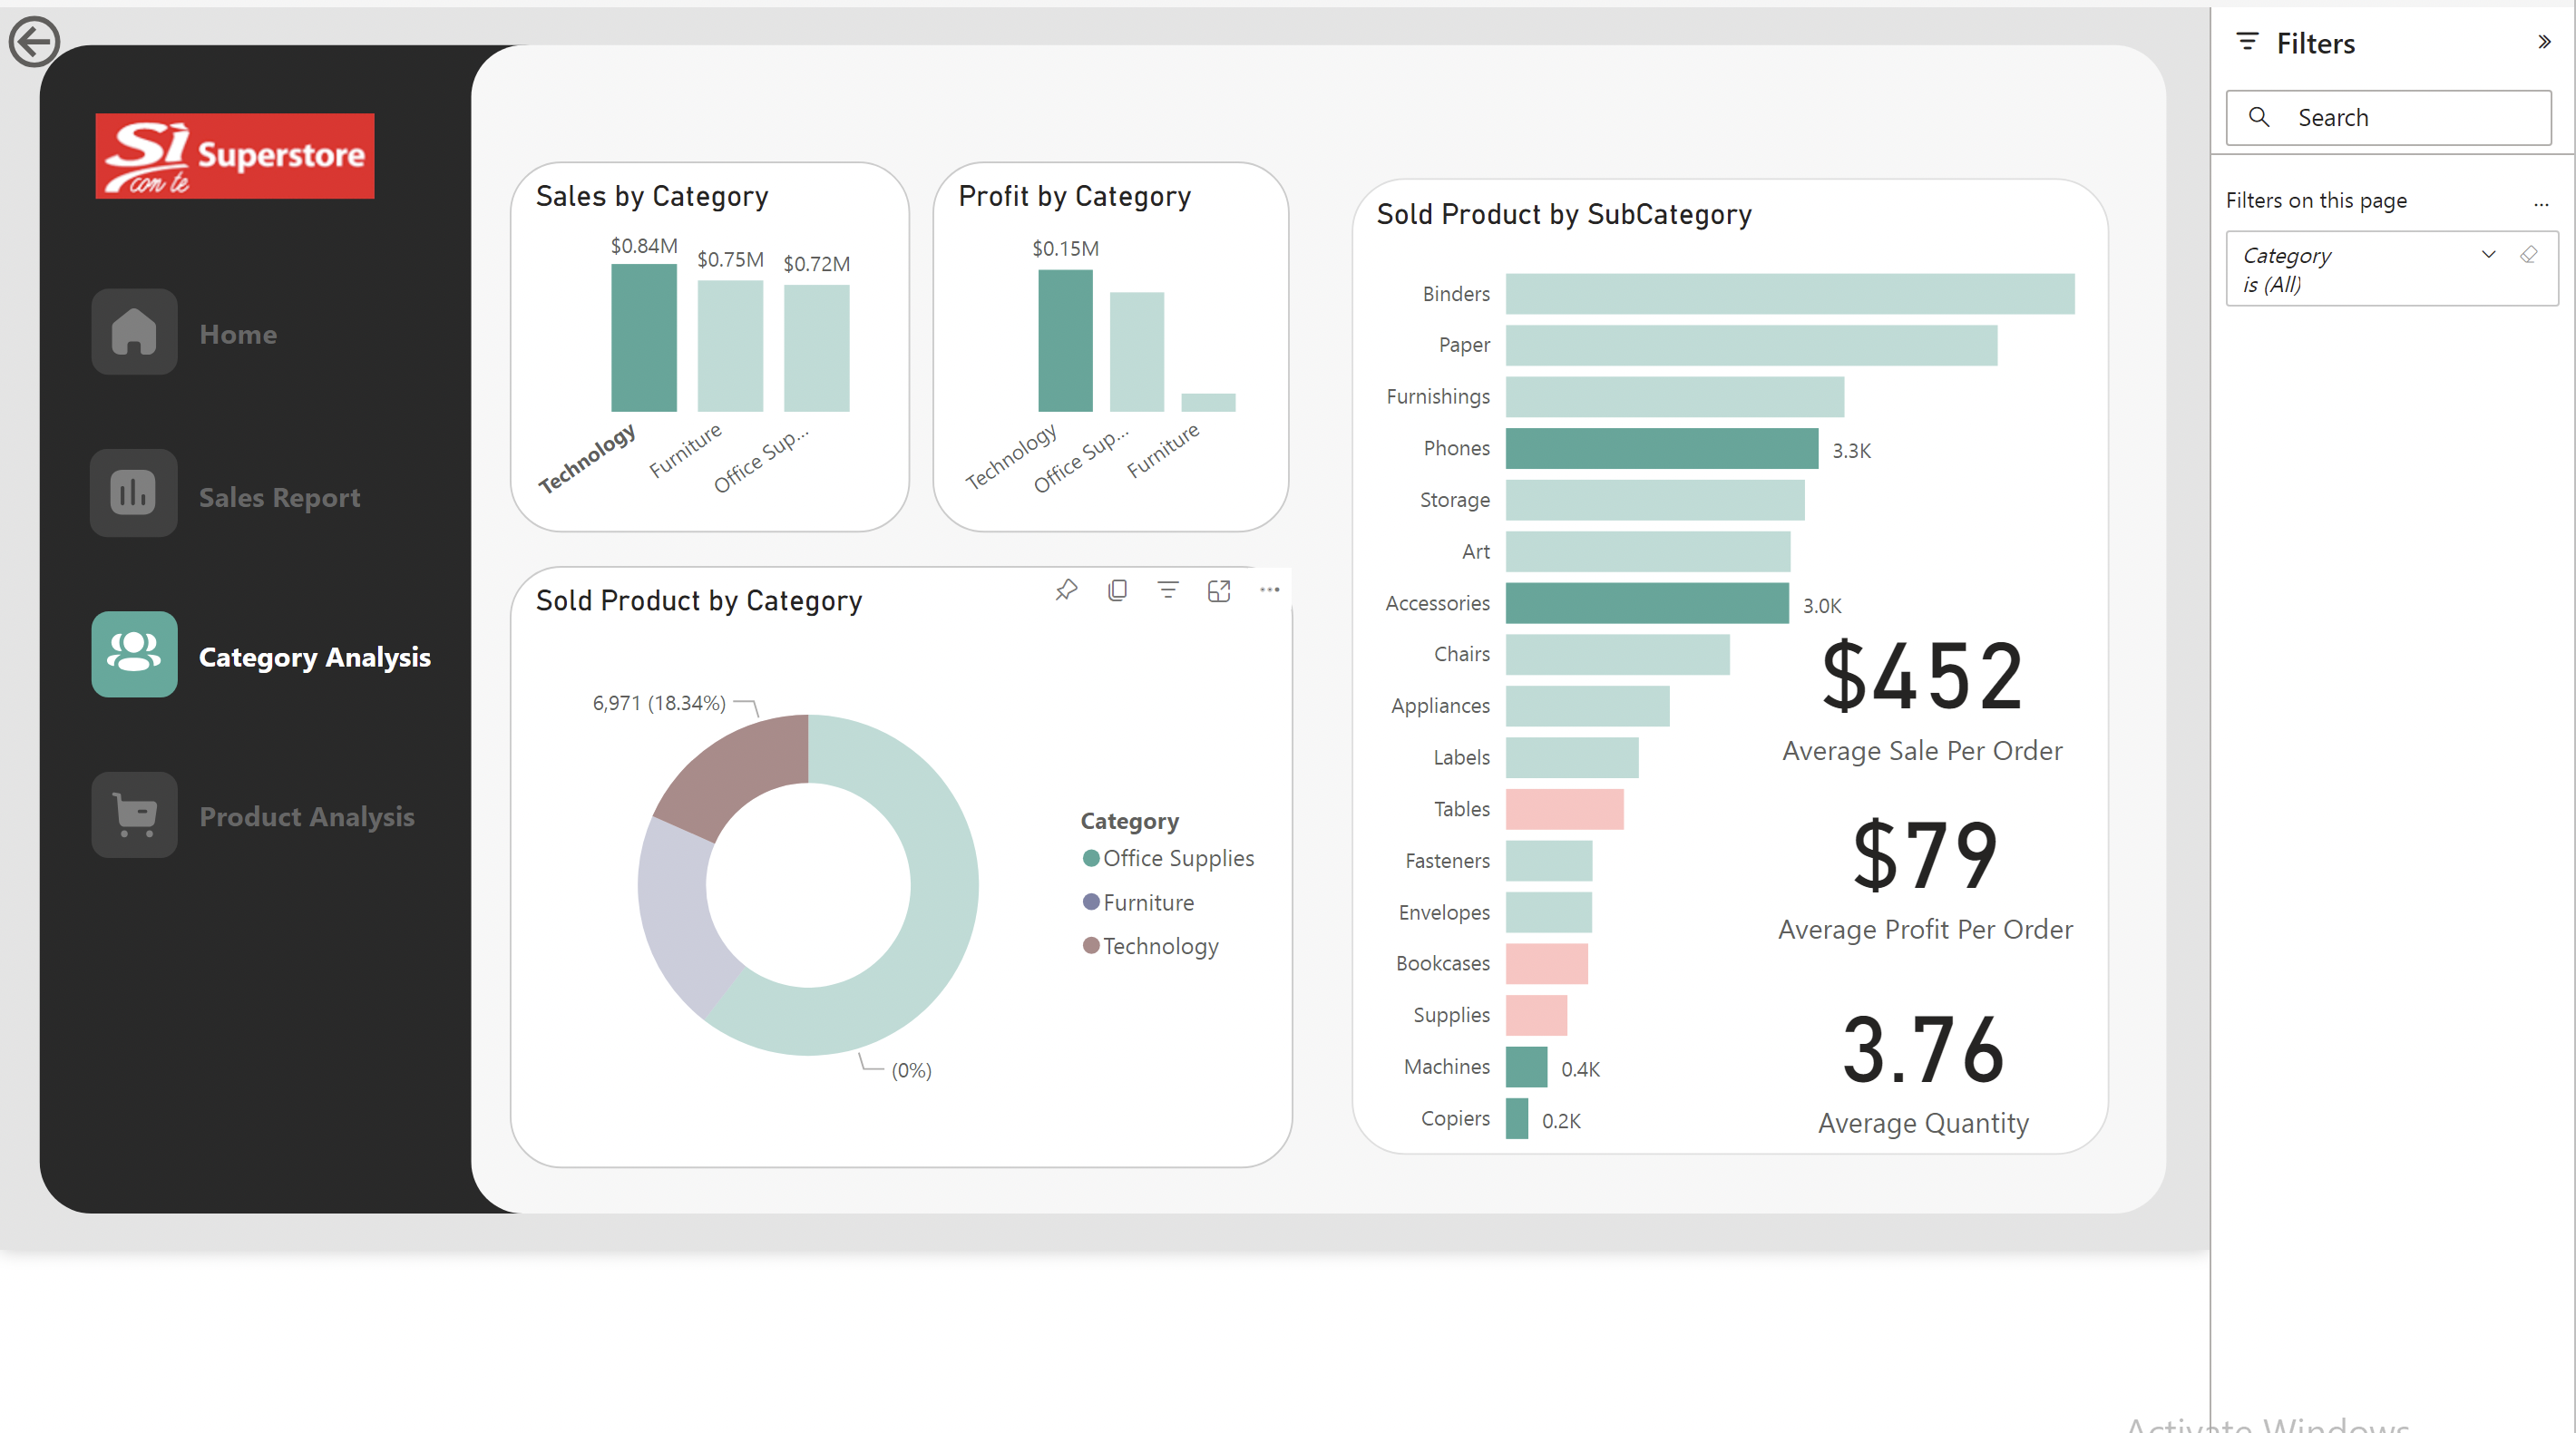

What the dashboard file says about the page in this screenshot:
{"tool":"powerbi","page":{"name":"Category Insights","canvas":[1280,720],"ordinal":5},"visuals":[{"type":"card","title":"Sold Products by Category","fields":{"Values":["Min(CategoryDim.Category)"]},"box":[50.3,0,258.3,167.8],"z":0},{"type":"hundredPercentStackedColumnChart","title":"Total Sales and Profit % by Category","fields":{"Category":["CategoryDim.Category"],"Y":["Sum(SalesFact.Sales)","Sum(SalesFact.Profit)"]},"box":[308.7,0,298.6,273.4],"z":1000},{"type":"lineClusteredColumnComboChart","title":"Sold Product by SubCategory","fields":{"Category":["CategoryDim.Sub-Category"],"Y":["Sum(SalesFact.Quantity)"]},"box":[0,274,588,446],"z":2000},{"type":"lineClusteredColumnComboChart","title":"Total Profit and Sales by Sub-Category","fields":{"Category":["CategoryDim.Sub-Category"],"Y2":["Sum(SalesFact.Sales)"],"Y":["Sum(SalesFact.Profit)"]},"box":[588,274,693,445],"z":3000},{"type":"card","fields":{"Values":["Sum(SalesFact.Sales)"]},"box":[597.9,0,231.4,112.2],"z":4000},{"type":"card","fields":{"Values":["Sum(SalesFact.Profit)"]},"box":[828,0,256,112],"z":5000},{"type":"card","fields":{"Values":["Sum(SalesFact.Quantity)"]},"box":[1084,0,196,112],"z":6000},{"type":"card","fields":{"Values":["Avg(SalesFact.Sales)"]},"box":[598,112,240,112],"z":7000},{"type":"card","fields":{"Values":["Avg(SalesFact.Profit)"]},"box":[838,112,256,112],"z":8000},{"type":"card","fields":{"Values":["Avg(SalesFact.Quantity)"]},"box":[1084,112,196,112],"z":9000},{"type":"actionButton","box":[0,0,100,40],"z":10000}]}

Visuals, with their boxes on the page's 1280x720 design canvas (x1, y1, x2, y2). These are canvas units, not pixel positions in the 2576x1433 screenshot, which may show the page scaled, cropped or inside an application window:
"Sold Products by Category" card: crop(50, 0, 309, 168)
"Total Sales and Profit % by Category" hundredPercentStackedColumnChart: crop(309, 0, 607, 273)
"Sold Product by SubCategory" lineClusteredColumnComboChart: crop(0, 274, 588, 720)
"Total Profit and Sales by Sub-Category" lineClusteredColumnComboChart: crop(588, 274, 1281, 719)
card - Sum(SalesFact.Sales): crop(598, 0, 829, 112)
card - Sum(SalesFact.Profit): crop(828, 0, 1084, 112)
card - Sum(SalesFact.Quantity): crop(1084, 0, 1280, 112)
card - Avg(SalesFact.Sales): crop(598, 112, 838, 224)
card - Avg(SalesFact.Profit): crop(838, 112, 1094, 224)
card - Avg(SalesFact.Quantity): crop(1084, 112, 1280, 224)
actionButton: crop(0, 0, 100, 40)
